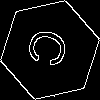C: (25, 25, 79, 74)
